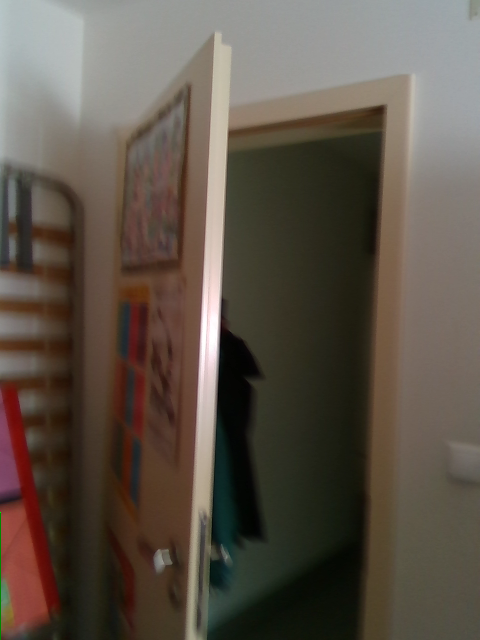semi: (100, 33, 407, 639)
